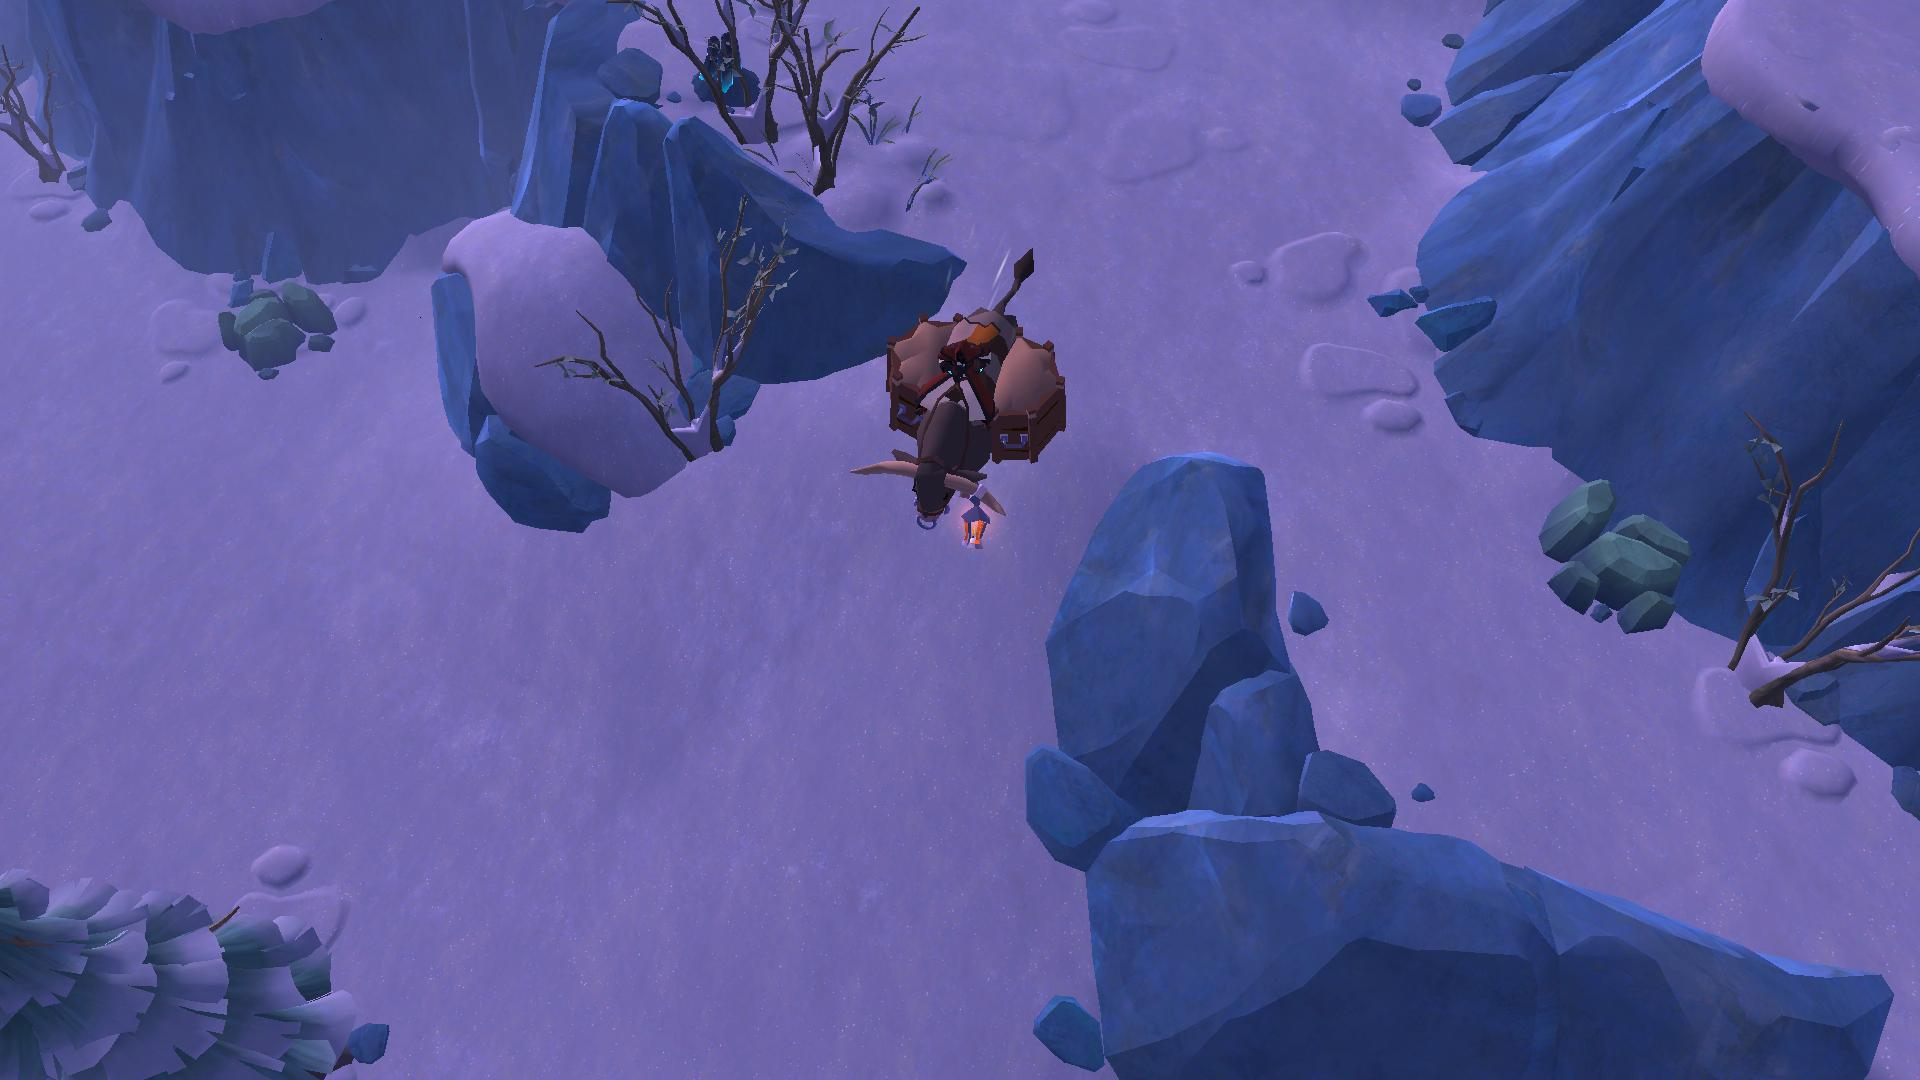ore_t4: (695, 29, 752, 94)
rock_t3: (1524, 471, 1695, 649), (200, 276, 344, 373)
